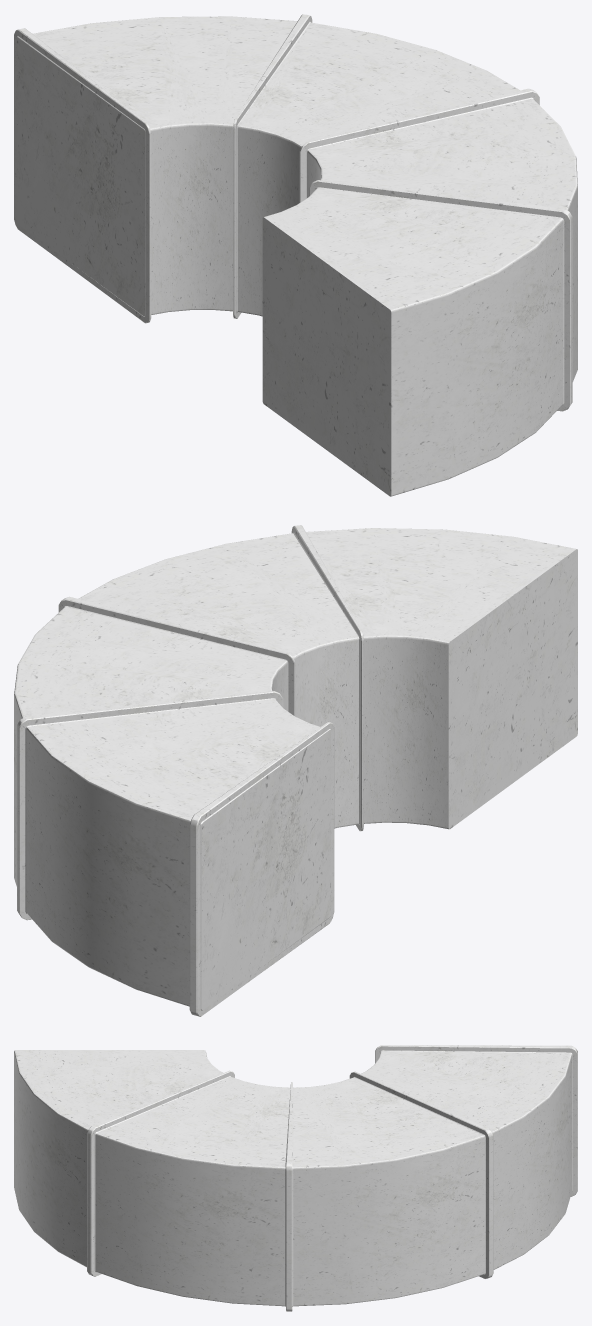
File: SM_AC_Unit_Bend_90.glb
3 renders of one model, top to bottom at view 1: azimuth 30°, elevation 25°; view 2: azimuth 150°, elevation 25°; view 3: azimuth 270°, elevation 25°, orthographic. The views are drawn at different scales.
Visible parts, largest first — view 1: SM_AC_Unit_Bend_90; view 2: SM_AC_Unit_Bend_90; view 3: SM_AC_Unit_Bend_90.
Boxes of the visible parts, x1,y1,x2,y2 form: SM_AC_Unit_Bend_90: (14, 14, 577, 496); SM_AC_Unit_Bend_90: (14, 525, 577, 1016); SM_AC_Unit_Bend_90: (14, 1045, 577, 1311).
Size of the model in its own units: 0.7419 by 0.4289 by 1.47.
Materials: 1 (1 with a texture image).
